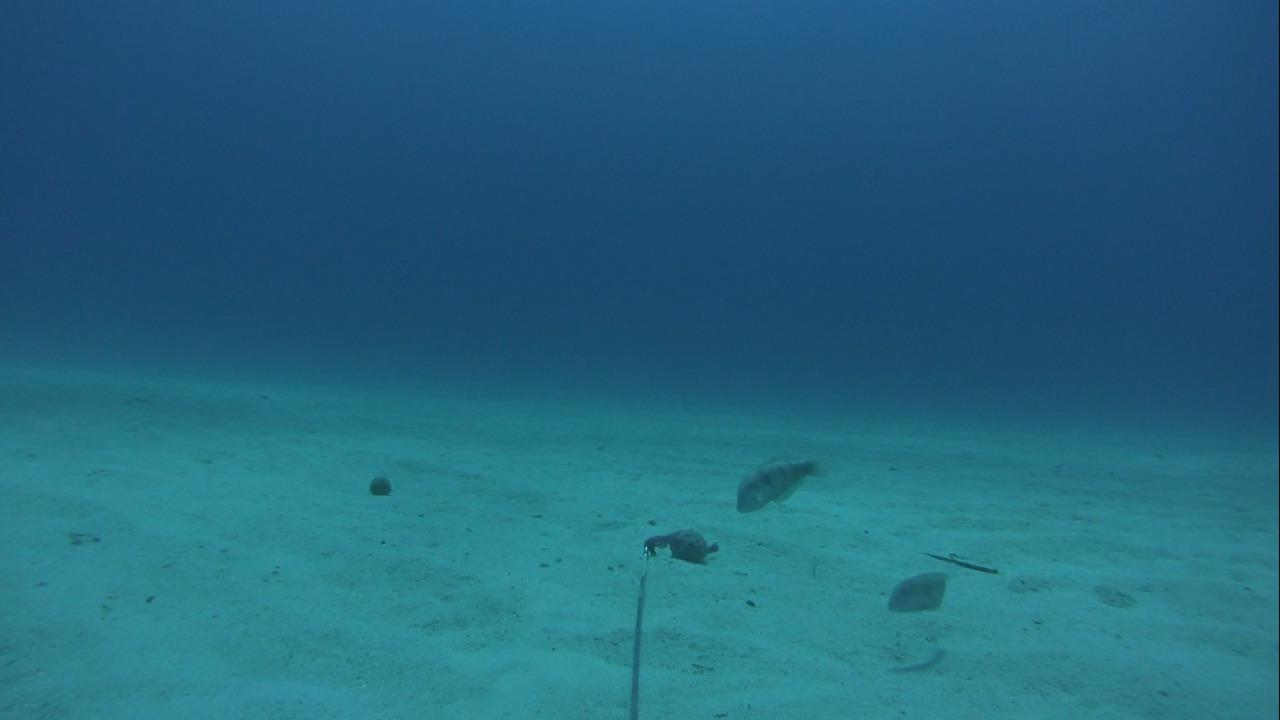raor: (730, 453, 825, 515), (880, 563, 952, 619)
